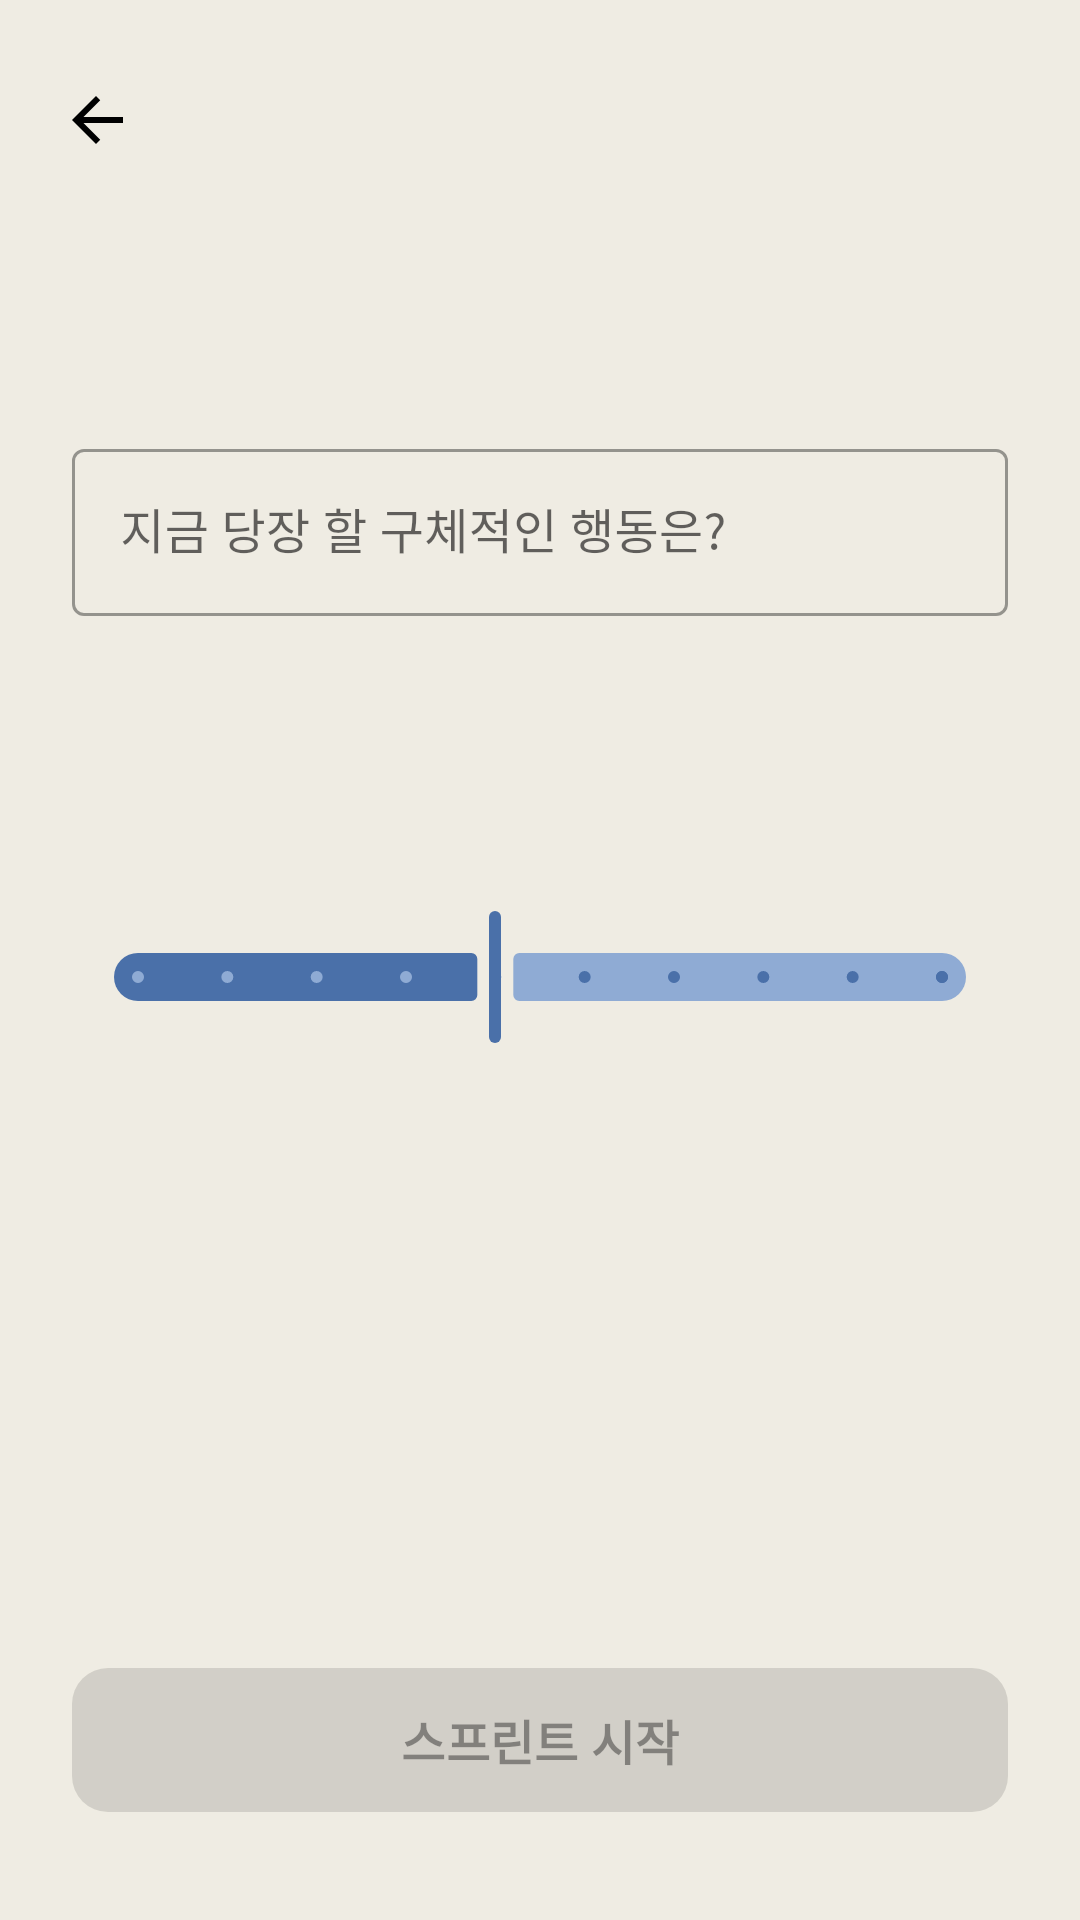

Screen size 1080px x 1920px. Icon name, then its center in pixels as [x,y]:
뒤로 가기: [97,120]
